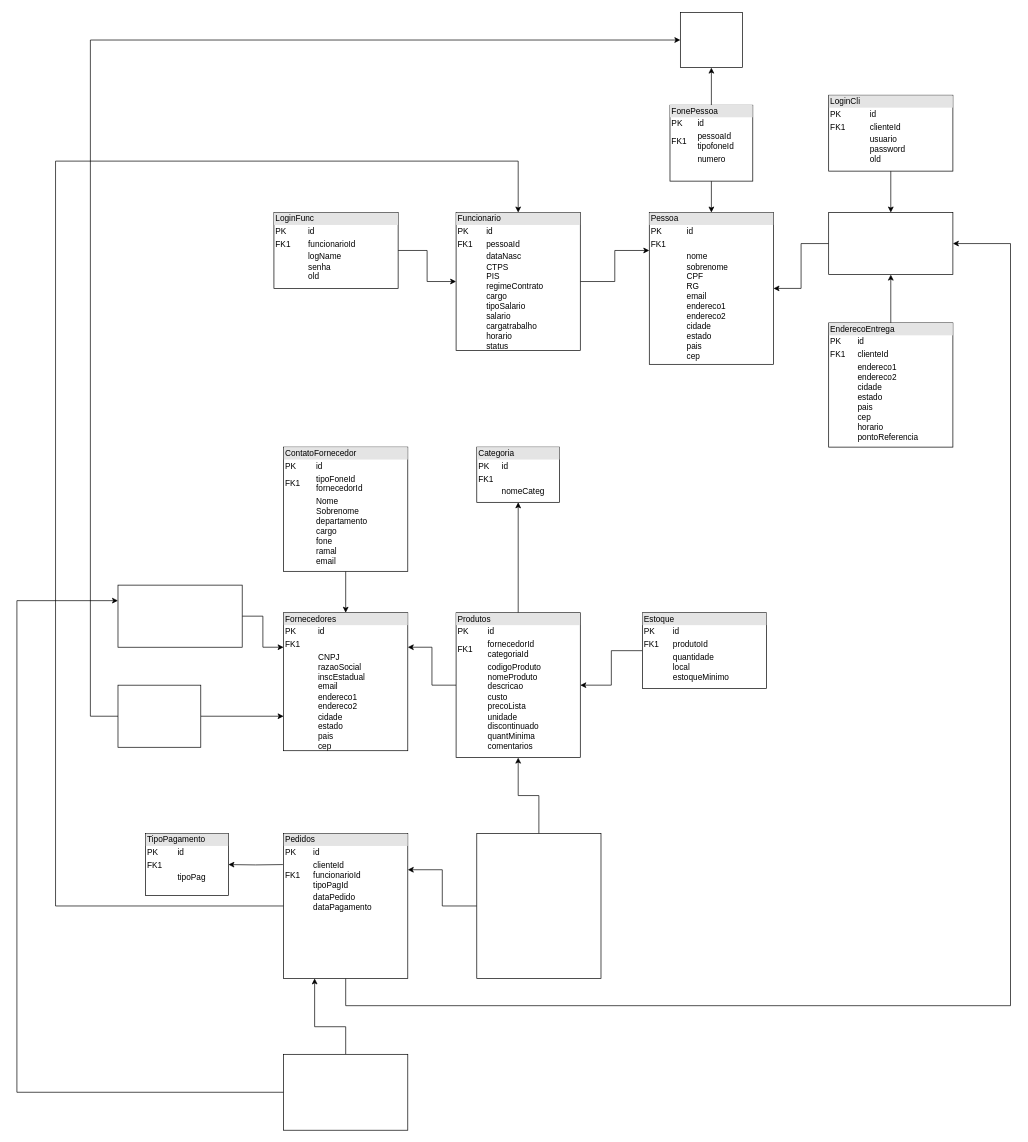
Image size: 1028x1142. Some labels were removed from this diagram. Each missing label, with the centre of its shape:
Cliente PK id FK1 pessoaId dataNasc: point 890,243
Despacho PK id FK1 pedidoId transportadoraId enderecoEntregaId dataDespacho: point 345,1092
DetalhesPedido PK id FK1 pedidoId produtoId quantidade precoUnitario desconto: point 538,905
FoneFornecedor PK id FK1 fornecedorId tipofoneId numero: point 159,715
TipoFone PK id FK1 tipo: point 711,40
Transportadora PK id FK1 fornecedorId cobertura: point 179,615
